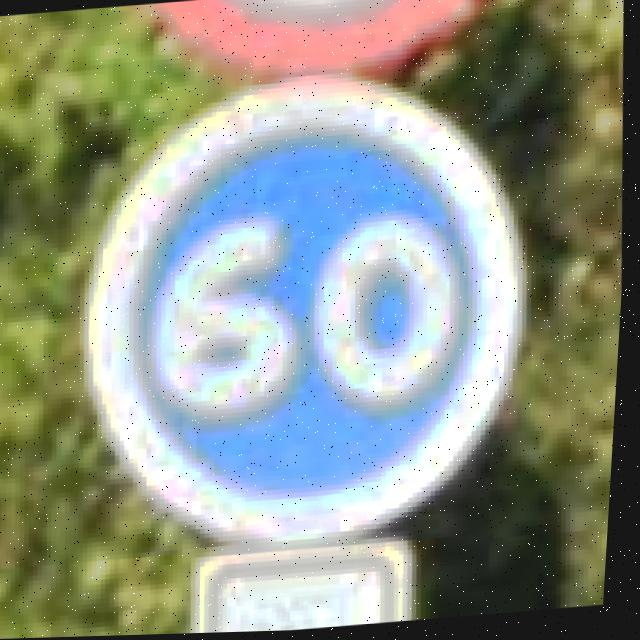min60: (61, 57, 554, 559)
